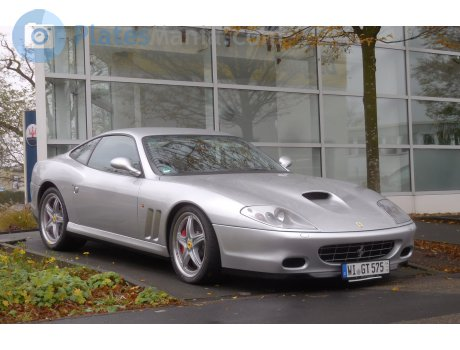License Plates: (345, 258, 387, 275)
